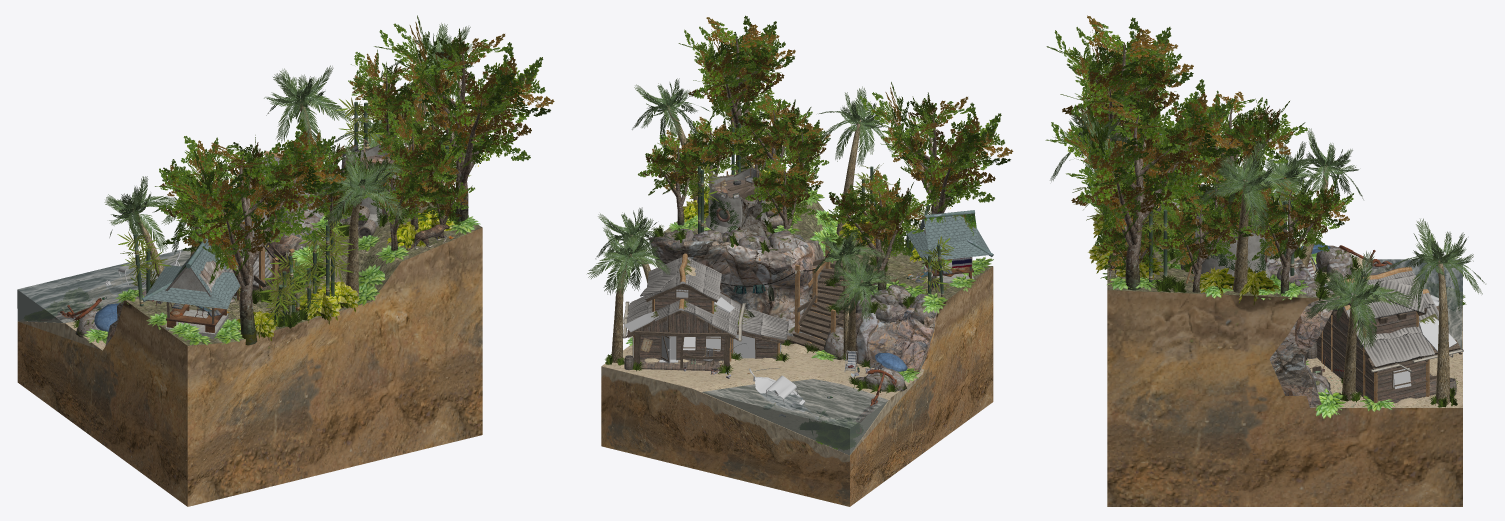
Rendered from diorama.fbx.
The picture shows the model from 3 angles, left to right: view 1: azimuth 30°, elevation 25°; view 2: azimuth 150°, elevation 25°; view 3: azimuth 270°, elevation 25°; orthographic projection. The views are drawn at different scales.
Visible parts, largest first — view 1: GrounPlane_01_geo, BibliTree_06_geo, BibliTree_02_geo, Water_01_Geo, ShadowTable_01_geo, PalmTree_06_geo, BibliTree_05_geo, BibliTree_01_geo, BibliTree_03_geo, PalmTree_01_geo, BibliTree_08_geo, PalmTree_03_geo (+20 smaller); view 2: GrounPlane_01_geo, House_01_geo, BibliTree_06_geo, BibliTree_02_geo, RockWall_02_geo, Water_01_Geo, BibliTree_03_geo, RockWall_01_geo, Stairs_01_geo, ShadowTable_01_geo, PalmTree_01_geo, BibliTree_01_geo (+18 smaller); view 3: GrounPlane_01_geo, BibliTree_02_geo, House_01_geo, BibliTree_06_geo, BibliTree_01_geo, BibliTree_03_geo, PalmTree_05_geo, PalmTree_04_geo, BibliTree_09_geo, PalmTree_01_geo, RockWall_02_geo, Water_01_Geo (+13 smaller).
Boxes of the visible parts, <box> form: GrounPlane_01_geo: <box>17,202,482,506</box>; BibliTree_06_geo: <box>155,119,346,345</box>; BibliTree_02_geo: <box>374,15,554,221</box>; Water_01_Geo: <box>17,247,190,322</box>; ShadowTable_01_geo: <box>142,238,240,339</box>; PalmTree_06_geo: <box>313,143,408,296</box>; BibliTree_05_geo: <box>375,109,462,231</box>; BibliTree_01_geo: <box>348,49,432,142</box>; BibliTree_03_geo: <box>158,136,245,256</box>; PalmTree_01_geo: <box>264,65,351,155</box>; BibliTree_08_geo: <box>343,152,438,250</box>; PalmTree_03_geo: <box>104,176,176,276</box>; GrounPlane_01_geo: <box>601,197,993,506</box>; House_01_geo: <box>622,253,788,371</box>; BibliTree_06_geo: <box>856,82,1013,214</box>; BibliTree_02_geo: <box>678,15,795,172</box>; RockWall_02_geo: <box>649,236,825,319</box>; Water_01_Geo: <box>702,379,888,455</box>; BibliTree_03_geo: <box>819,170,933,290</box>; RockWall_01_geo: <box>842,306,938,374</box>; Stairs_01_geo: <box>785,242,877,350</box>; ShadowTable_01_geo: <box>906,210,993,284</box>; PalmTree_01_geo: <box>587,225,670,362</box>; BibliTree_01_geo: <box>638,130,716,225</box>; GrounPlane_01_geo: <box>1107,193,1462,506</box>; BibliTree_02_geo: <box>1045,79,1243,290</box>; House_01_geo: <box>1316,266,1463,403</box>; BibliTree_06_geo: <box>1046,15,1193,156</box>; BibliTree_01_geo: <box>1240,177,1353,294</box>; BibliTree_03_geo: <box>1165,90,1307,212</box>; PalmTree_05_geo: <box>1197,137,1306,292</box>; PalmTree_04_geo: <box>1305,251,1414,400</box>; BibliTree_09_geo: <box>1157,195,1254,292</box>; PalmTree_01_geo: <box>1384,218,1485,404</box>; RockWall_02_geo: <box>1269,256,1339,407</box>; Water_01_Geo: <box>1361,259,1462,348</box>.
Bounding box in the file's own units: 2623 × 2525 × 2516.
